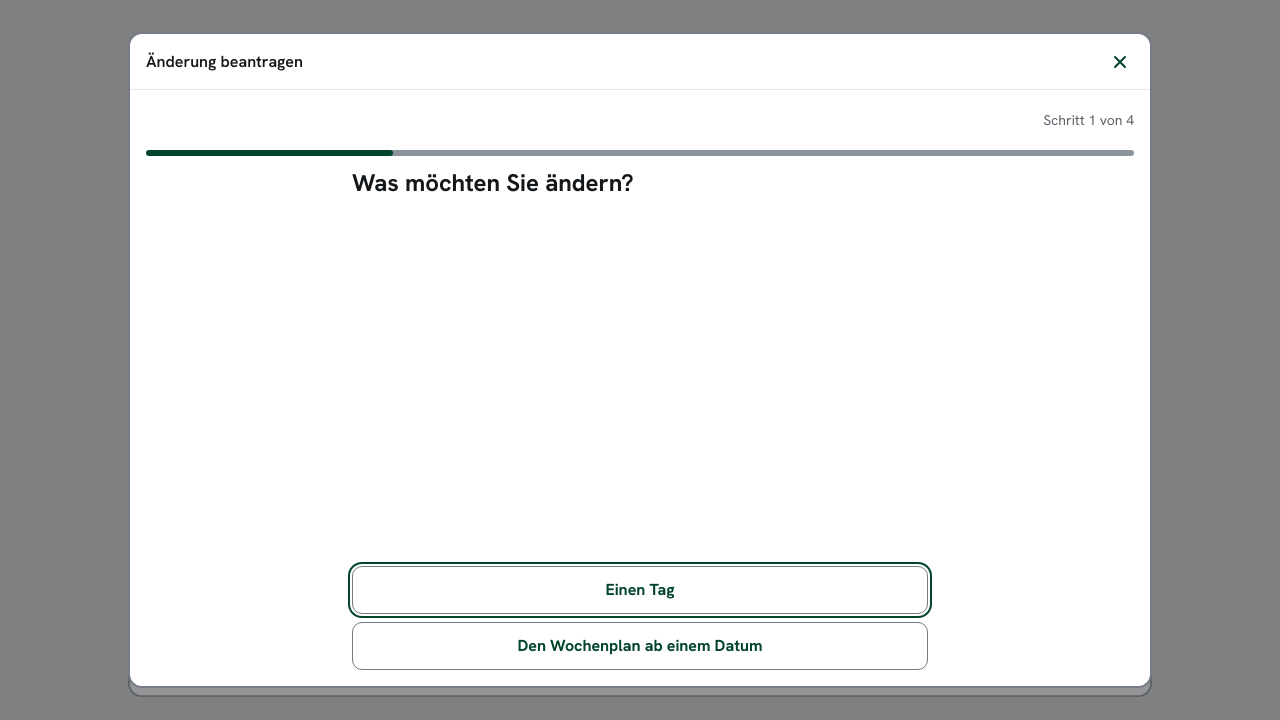
Test: RequestWorkingTimePage › lässt weniger Stunden nicht weiter und nennt den Grund (ANN-588)
This screenshot has width=1280, height=720.
Click the 2nd button "Einen Tag" at coordinates (640, 590), box x1=352 y1=566 x2=928 y2=614
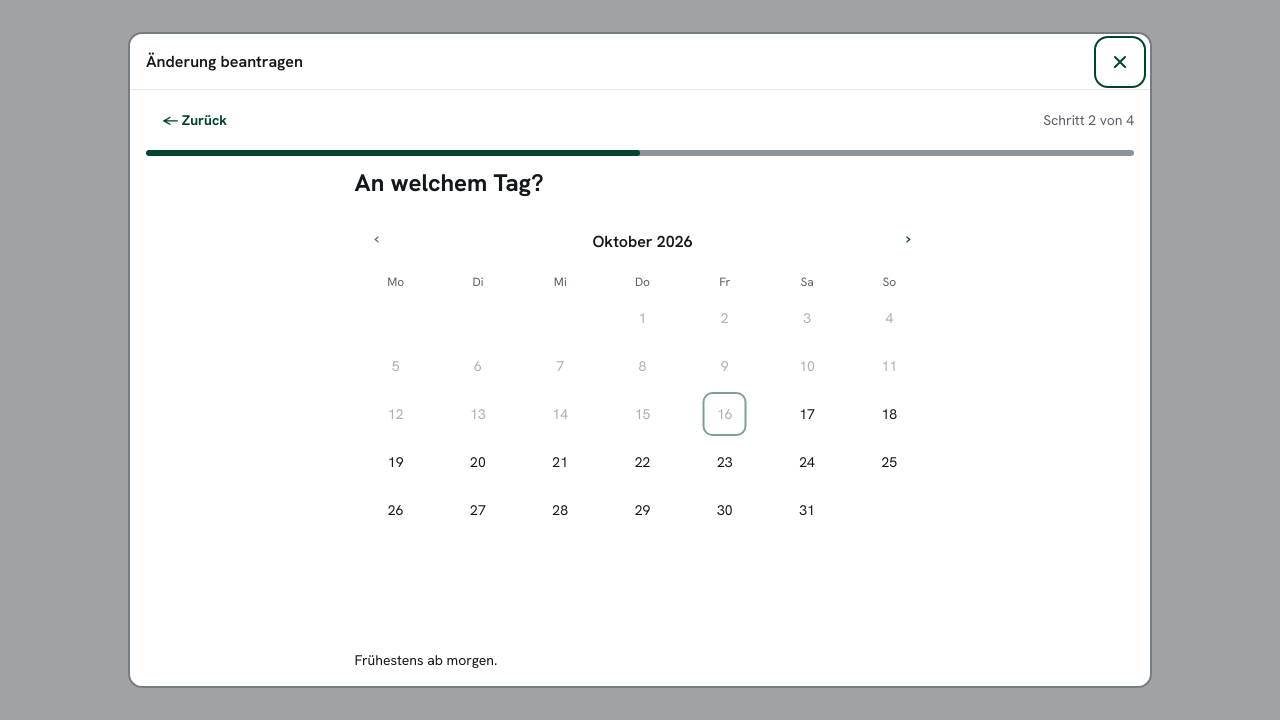
Click the button "20" at coordinates (476, 462), box x1=454 y1=440 x2=498 y2=484
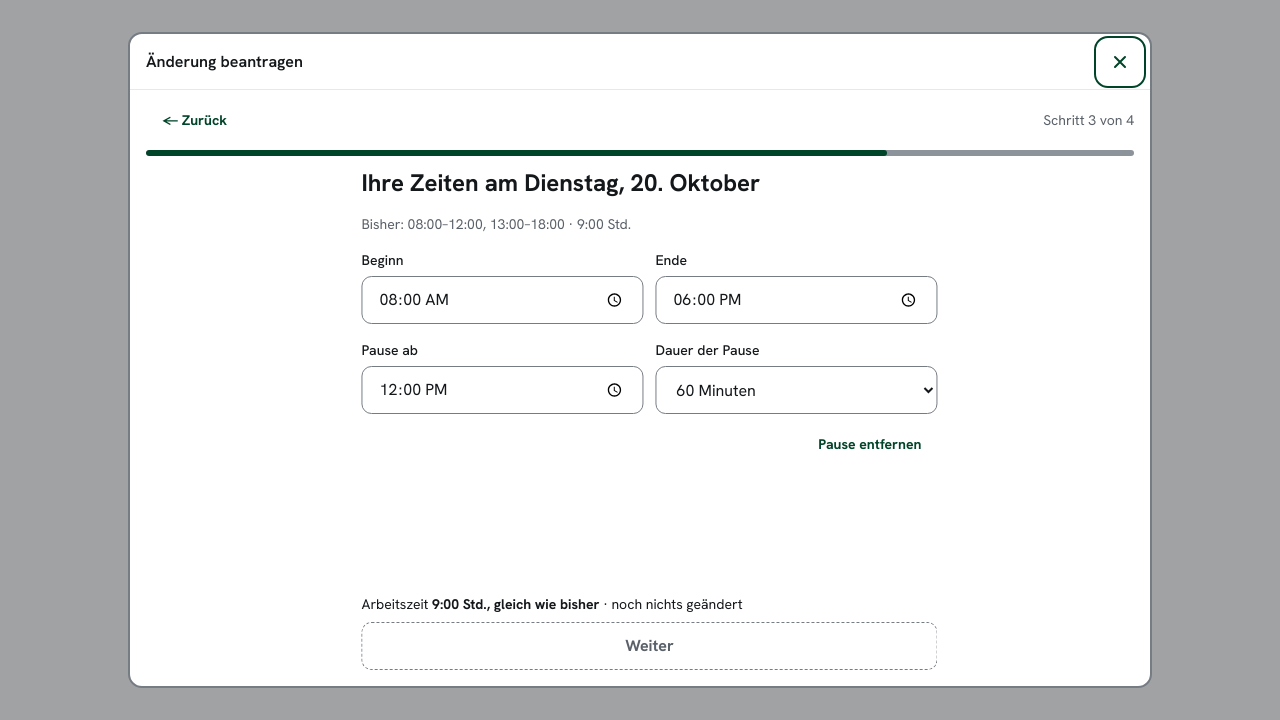
Expected: the text "Bisher: 08:00–12:00, 13:00–18:00 · 9:00 Std." is shown, x1=354 y1=215 x2=624 y2=233
Replace the text in the time field labelled "Ende" with "17:00" at coordinates (790, 300), box x1=648 y1=276 x2=930 y2=324
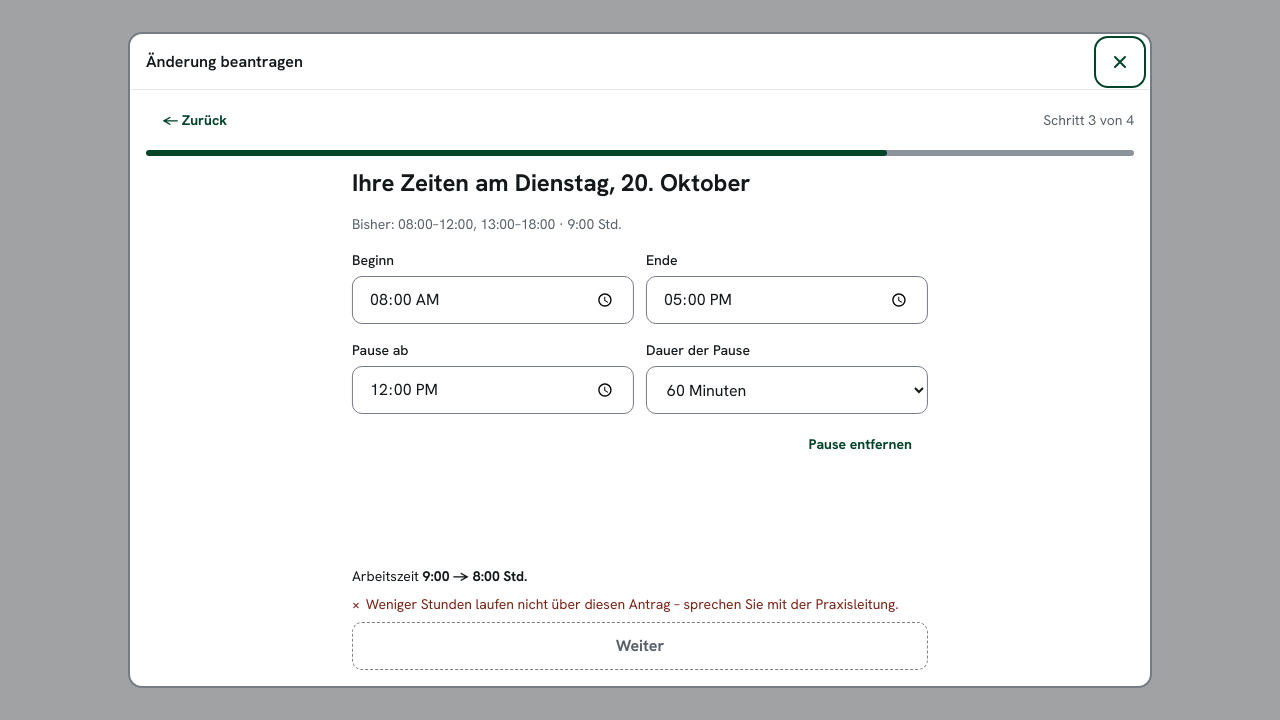
Expected: the button "Weiter" is disabled, x1=352 y1=622 x2=928 y2=670
Expected: the text "Weniger Stunden laufen nicht über diesen Antrag" is shown, x1=366 y1=595 x2=898 y2=613
Replace the text in the time field labelled "Ende" with "18:00" at coordinates (787, 300), box x1=646 y1=276 x2=928 y2=324
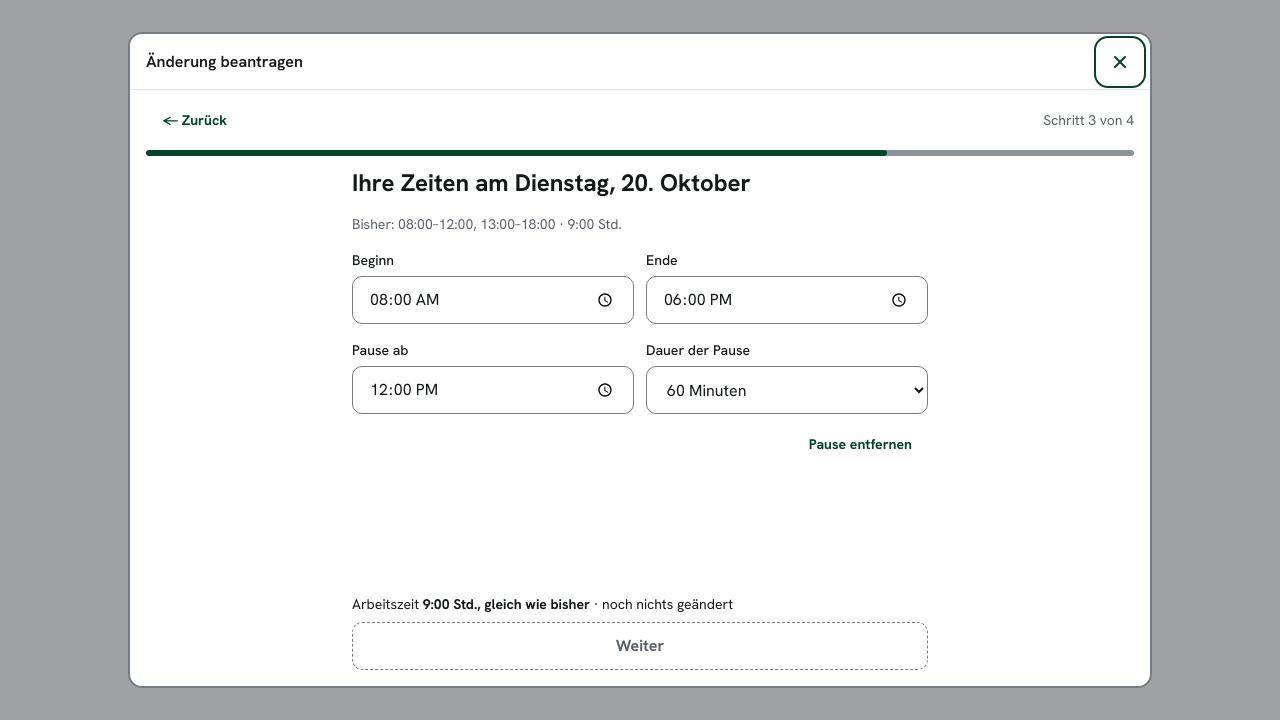
Select "90 Minuten" in the dropdown labelled "Dauer der Pause" at coordinates (787, 390), box x1=646 y1=366 x2=928 y2=414
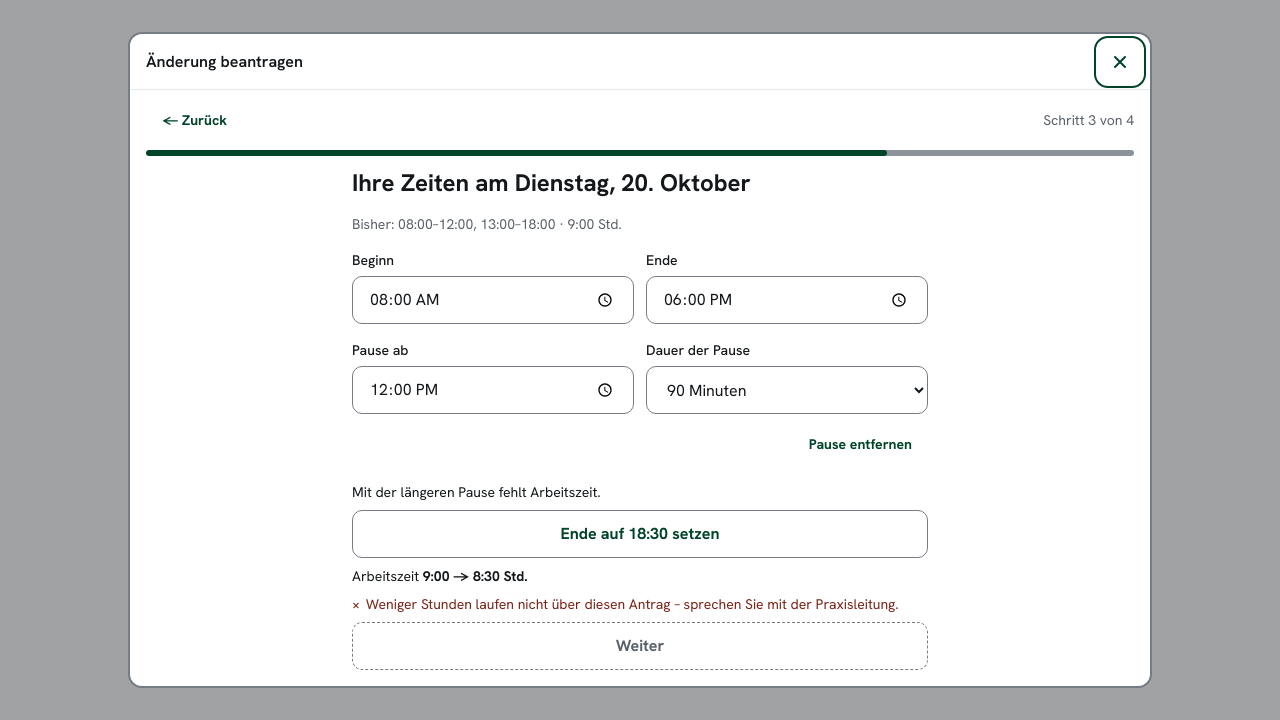
Click the button "Ende auf 18:30 setzen" at coordinates (640, 534), box x1=352 y1=510 x2=928 y2=558
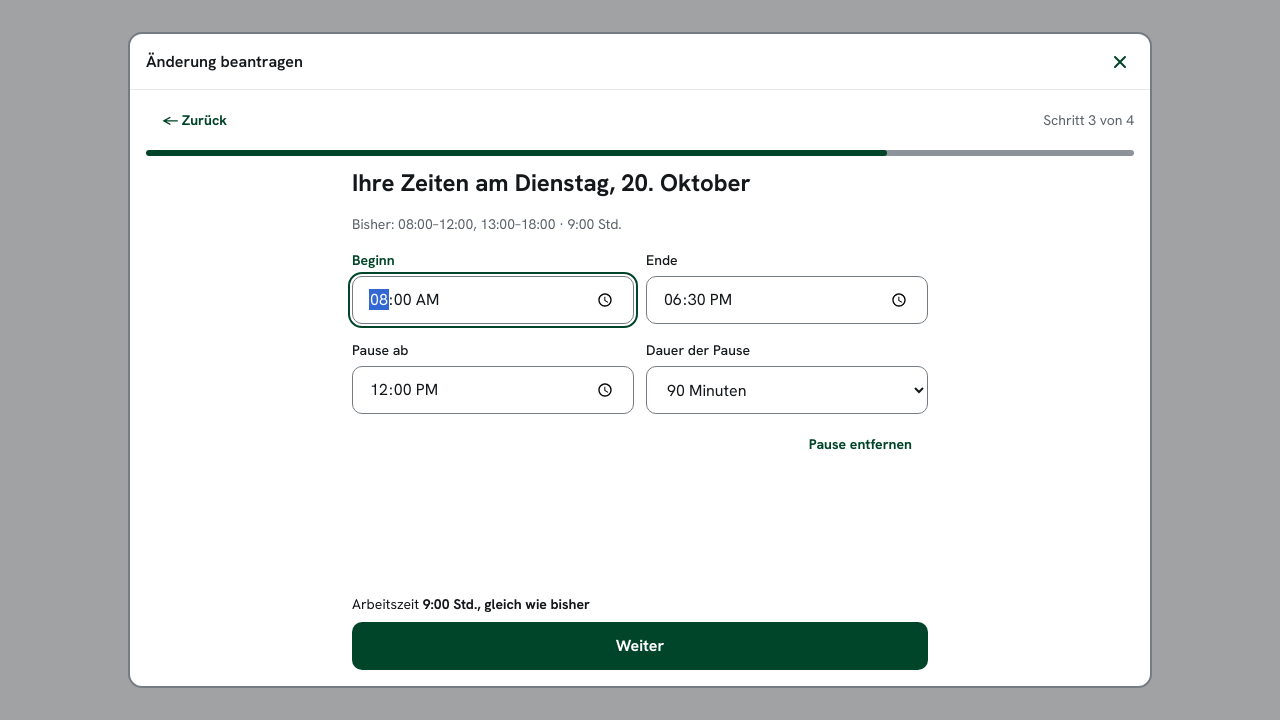
Expected: the time field labelled "Ende" holds "18:30", x1=646 y1=276 x2=928 y2=324
Expected: the button "Weiter" is enabled, x1=352 y1=622 x2=928 y2=670
